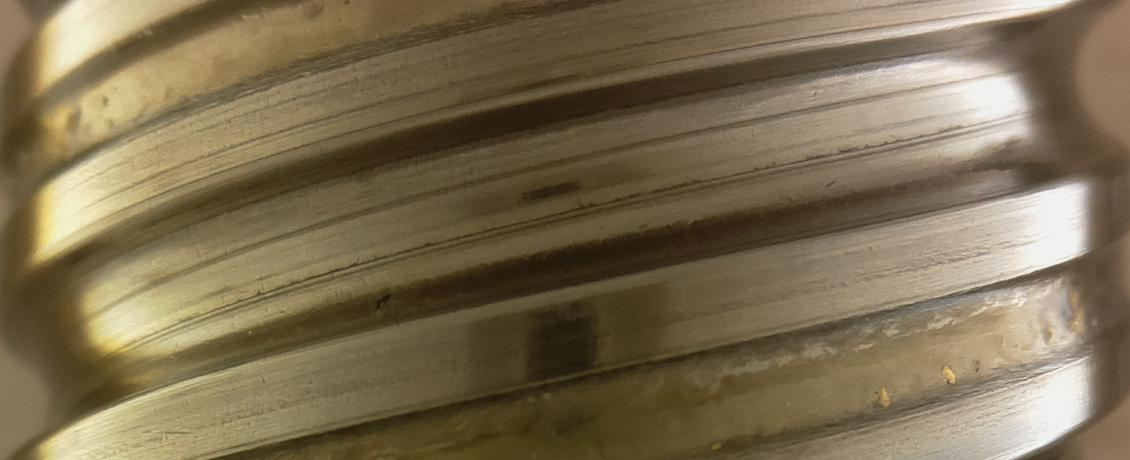pitting: (374, 293, 392, 311)
